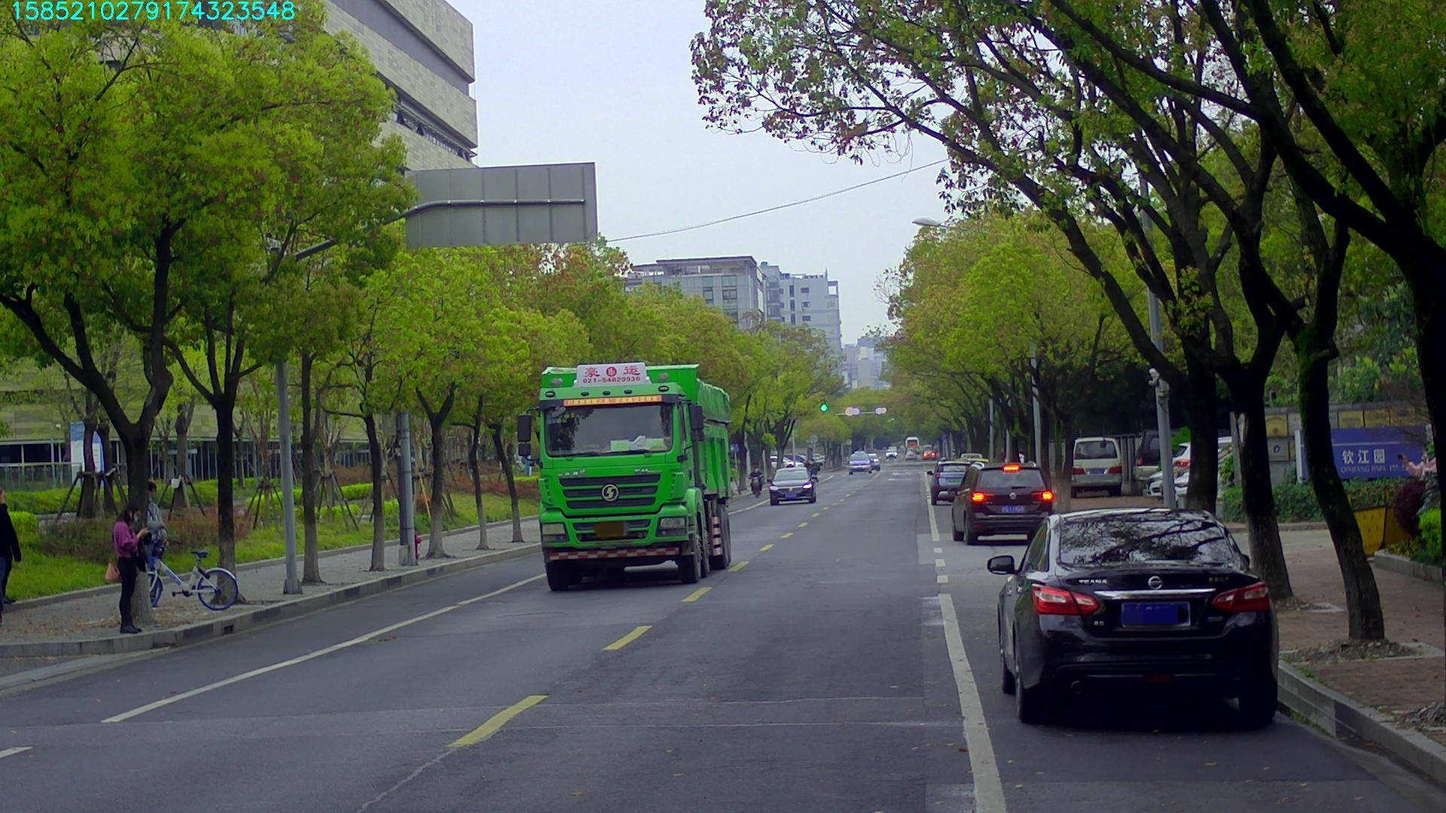green: (819, 403, 827, 411)
